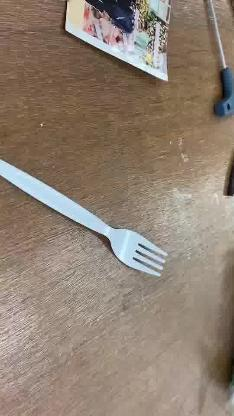Others: (0, 158, 170, 280)
